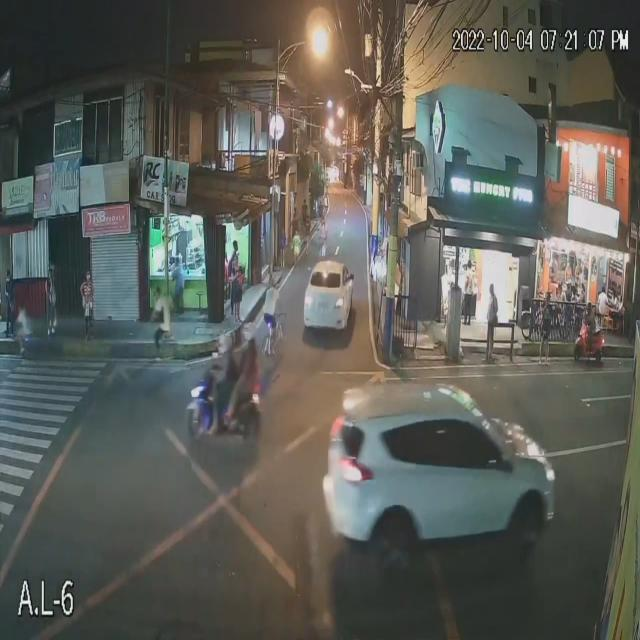Full-Faced: (240, 319, 258, 344), (215, 328, 233, 353)
